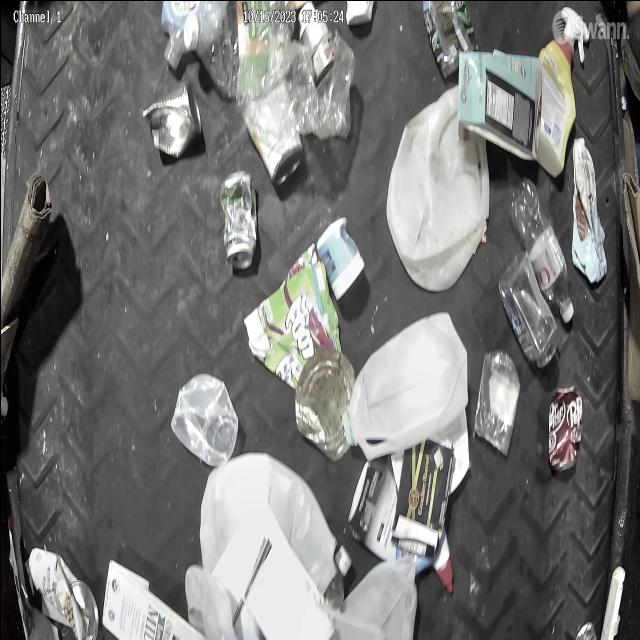can: (293, 354, 353, 454), (251, 96, 303, 186), (140, 80, 203, 152), (220, 172, 256, 266), (550, 382, 582, 477)
milk_jug: (388, 74, 490, 288), (195, 455, 347, 594), (342, 314, 472, 458), (175, 368, 237, 456)
non_white_jug: (528, 28, 570, 176)
plastic_bottle: (177, 0, 313, 75), (508, 181, 578, 326), (494, 240, 554, 362)
